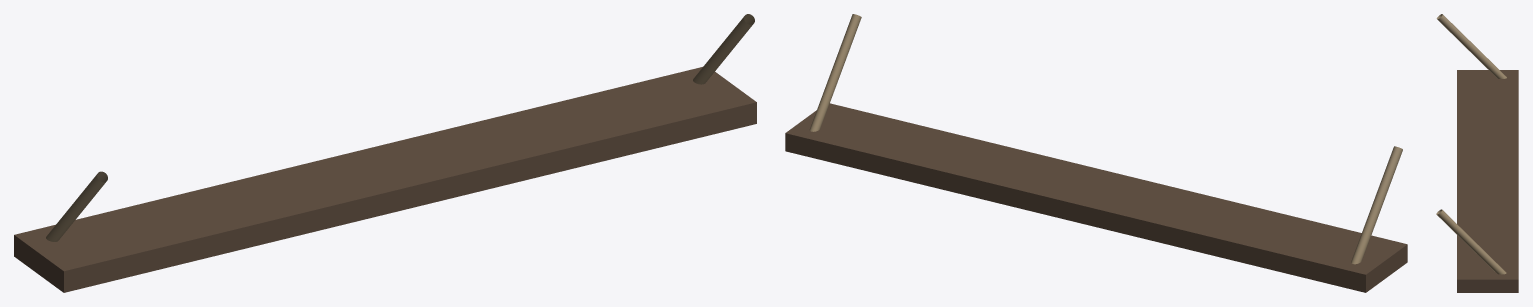
The model's file is Hub_shelf.fbx.
The picture shows the model from 3 angles, left to right: view 1: azimuth 30°, elevation 25°; view 2: azimuth 150°, elevation 25°; view 3: azimuth 270°, elevation 25°; orthographic projection. The views are drawn at different scales.
Visible parts, largest first — view 1: Hub_shelf; view 2: Hub_shelf; view 3: Hub_shelf.
Boxes of the visible parts, box(x1,y1,x2,y2) form: Hub_shelf: box(14, 14, 756, 292); Hub_shelf: box(785, 14, 1407, 292); Hub_shelf: box(1436, 14, 1518, 292).
Bounding box in the file's own units: 0.2047 × 1.23 × 0.2101.
